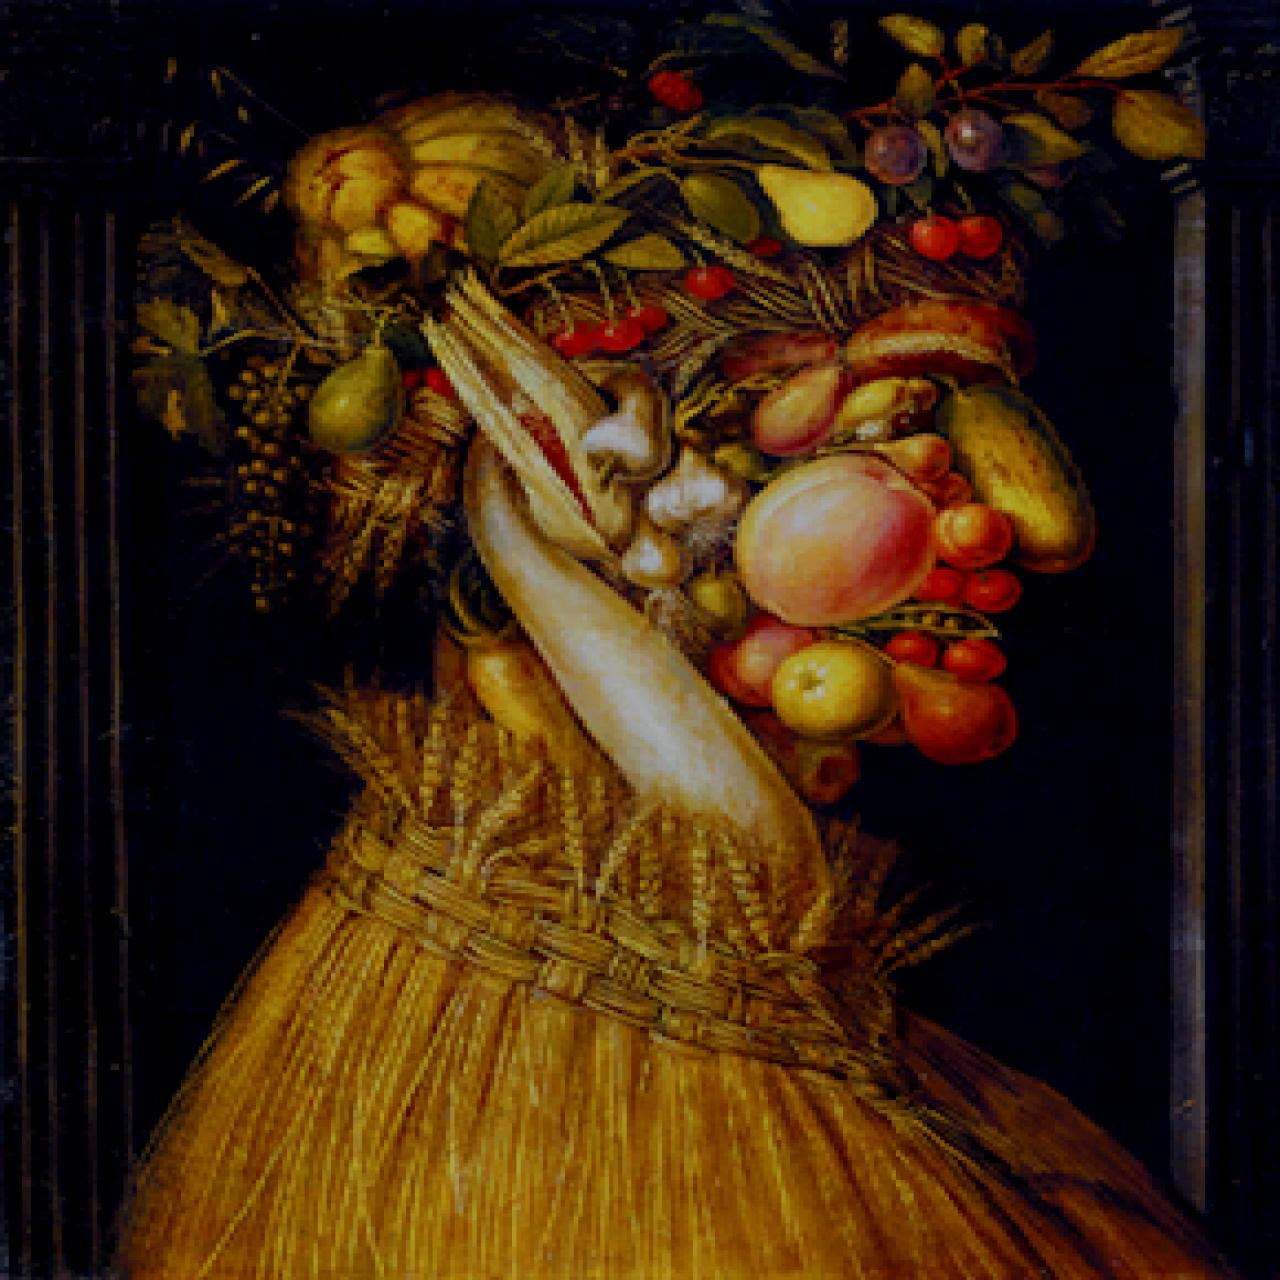SummerFake: (1, 1, 1276, 1278)
